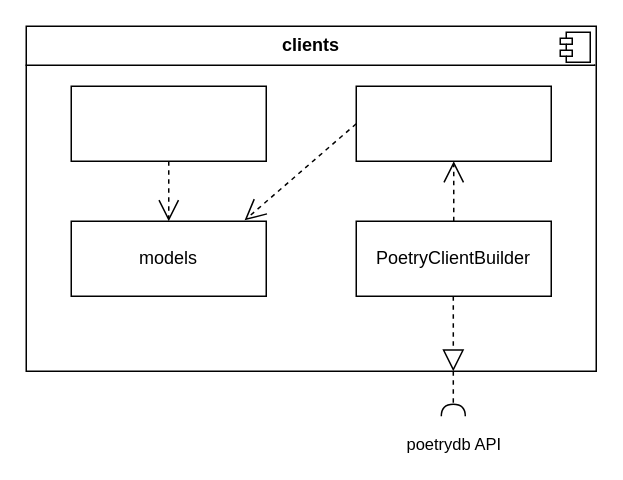
The diagram is 623 pixels wide and 480 high, and some of its shapes have lost their labels. The centre of each missing label's shape, as x and y in pixels:
<<Interface>> PoetryClient: (453,123)
DtoConverter: (168,123)
